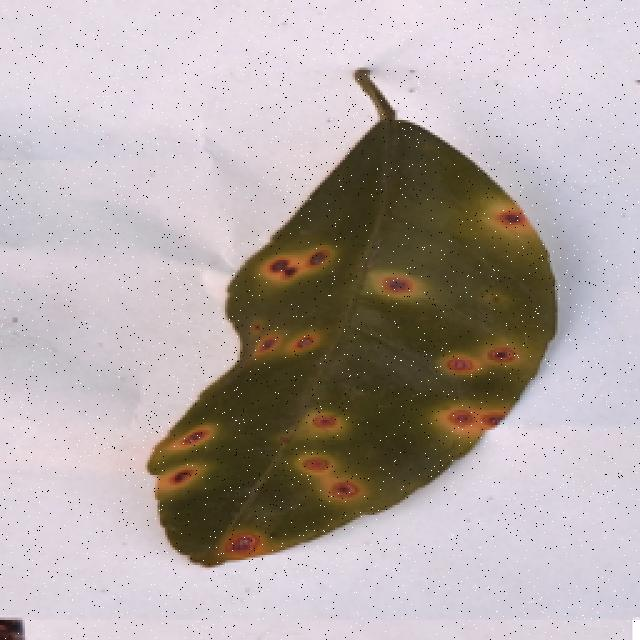canker: (151, 170, 571, 561)
